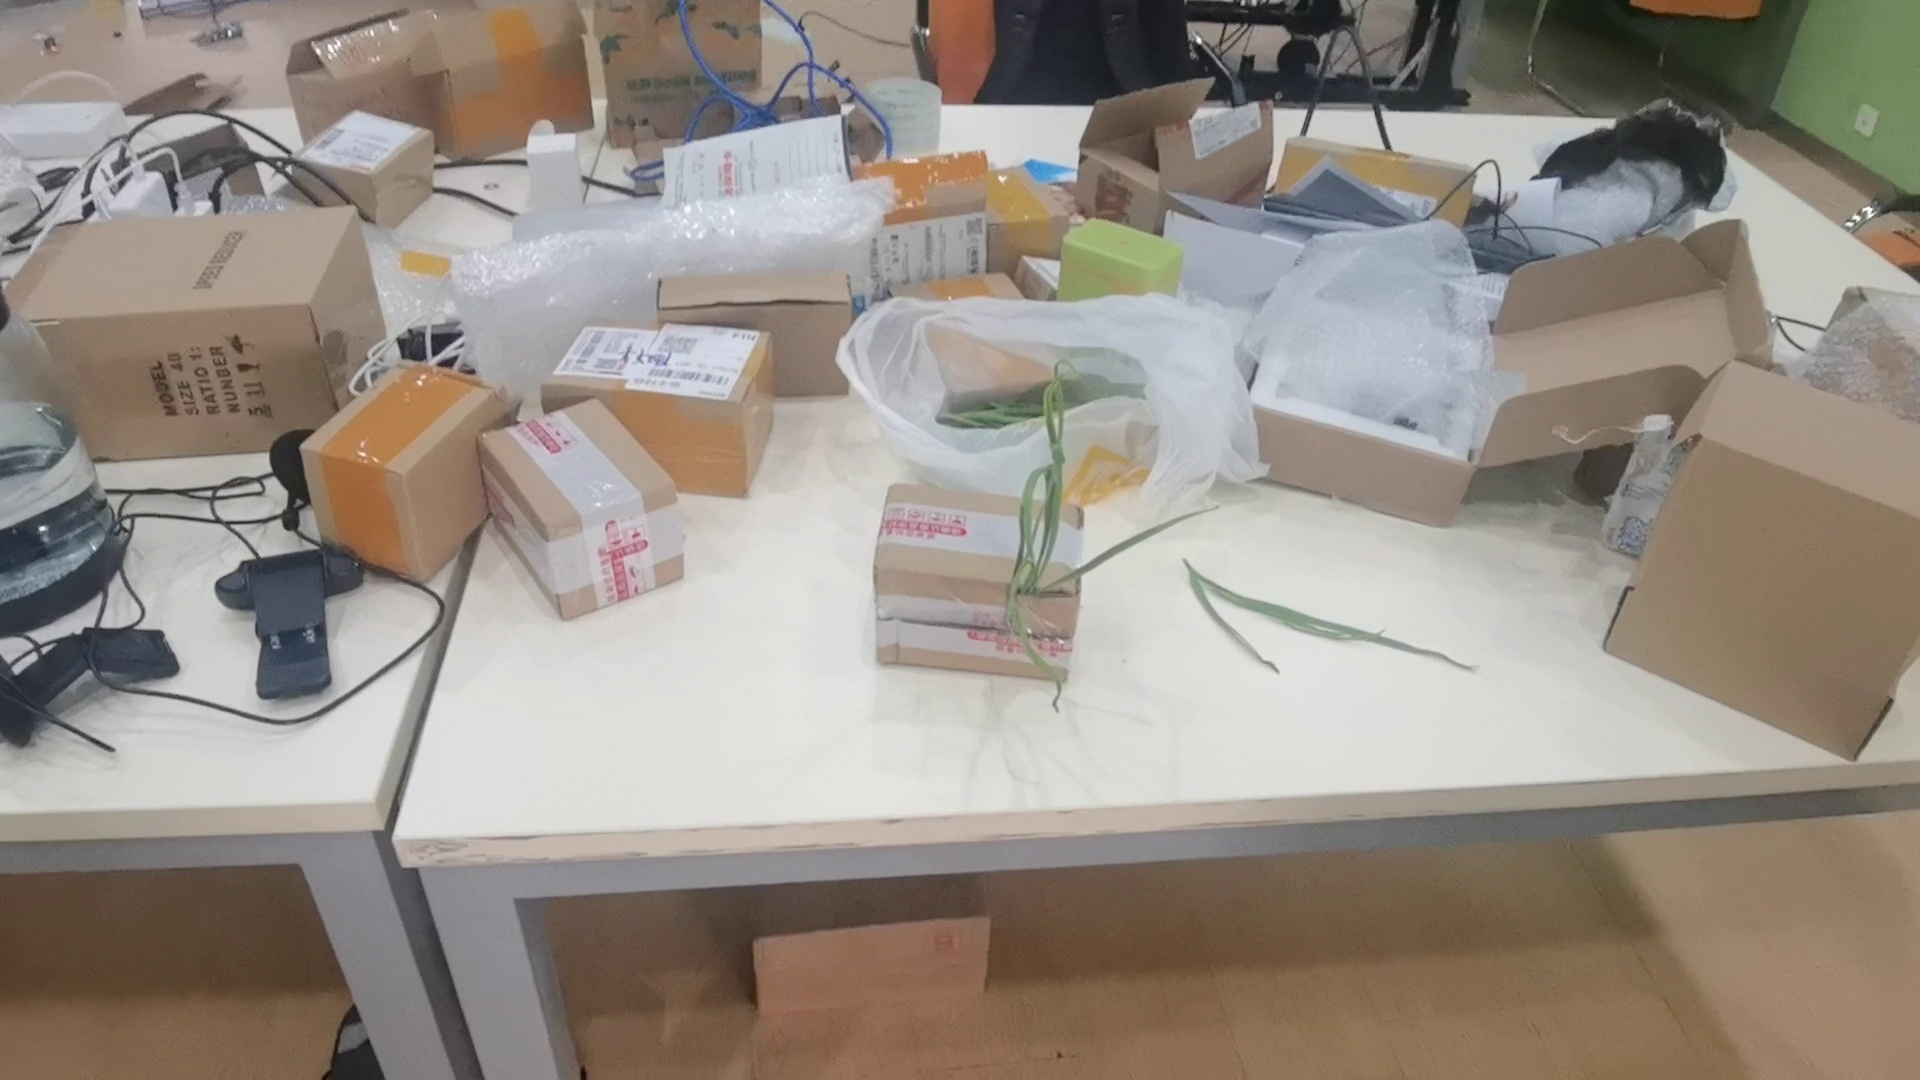chives: (980, 357, 1220, 698), (1176, 553, 1481, 686)
